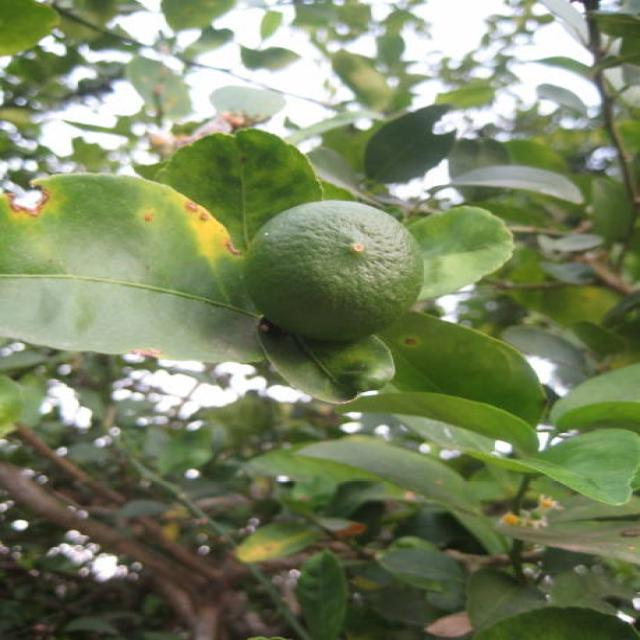Unripe: (248, 199, 425, 343)
